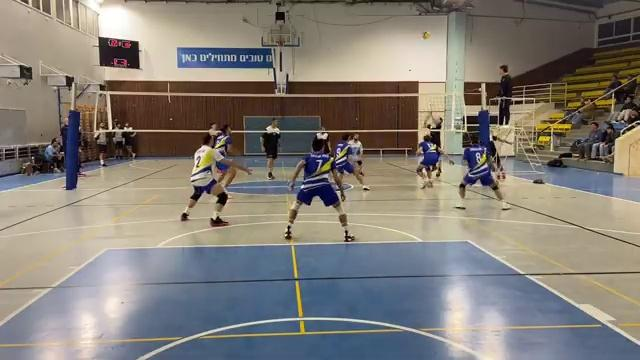ball: (421, 31, 430, 40)
